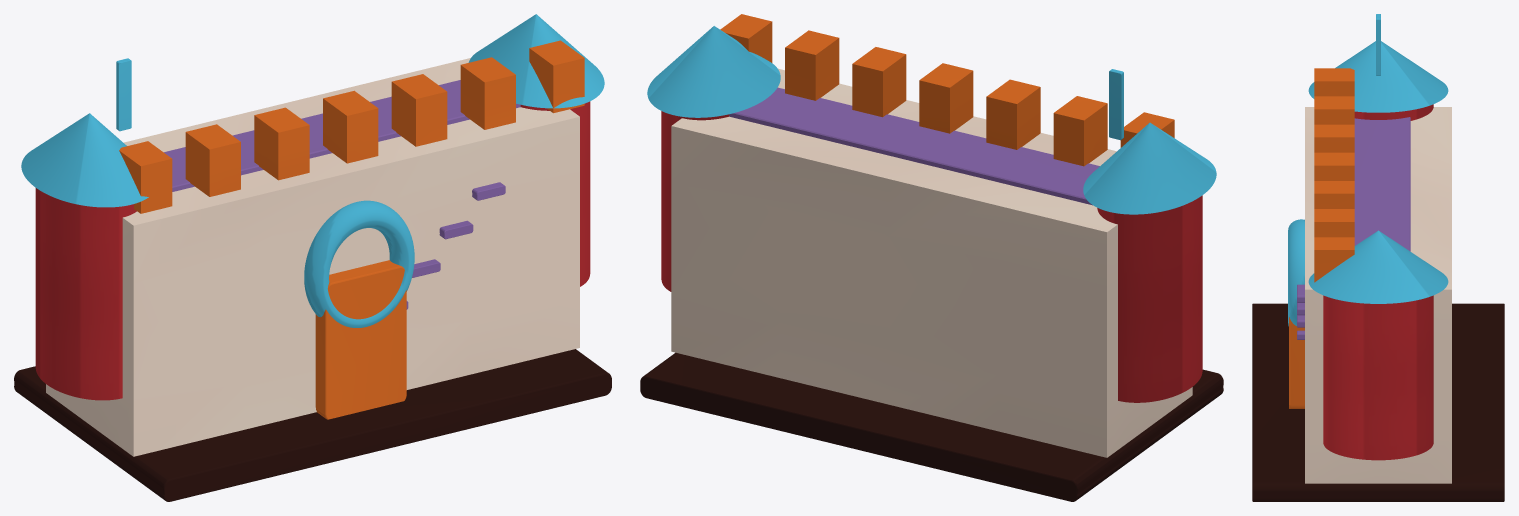
Rendered from 0817_中国建筑图鉴_烽火台.glb.
The picture shows the model from 3 angles, left to right: view 1: azimuth 30°, elevation 25°; view 2: azimuth 150°, elevation 25°; view 3: azimuth 270°, elevation 25°; orthographic projection. The views are drawn at different scales.
Visible parts, largest first — view 1: card_0817; view 2: card_0817; view 3: card_0817.
Boxes of the visible parts, x1,y1,x2,y2 form: card_0817: (14,14,611,501); card_0817: (640,14,1223,501); card_0817: (1252,14,1504,501).
Size of the model in its own units: 1.53 by 1 by 0.718.
